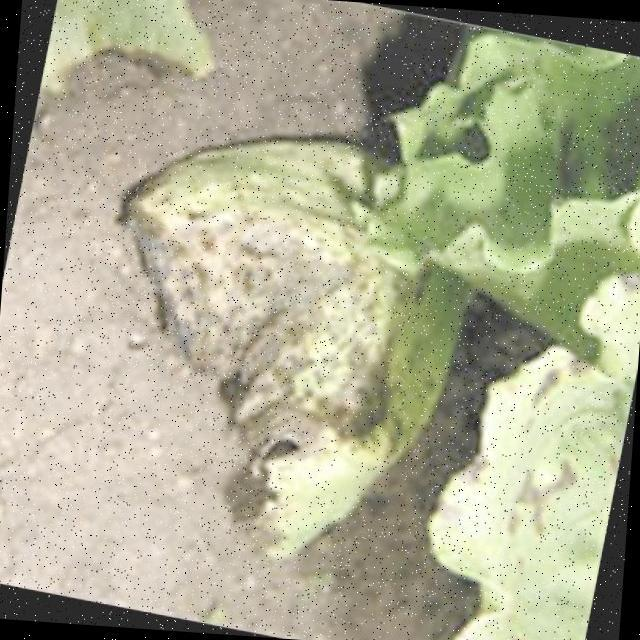Bacterial: (188, 186, 435, 395)
